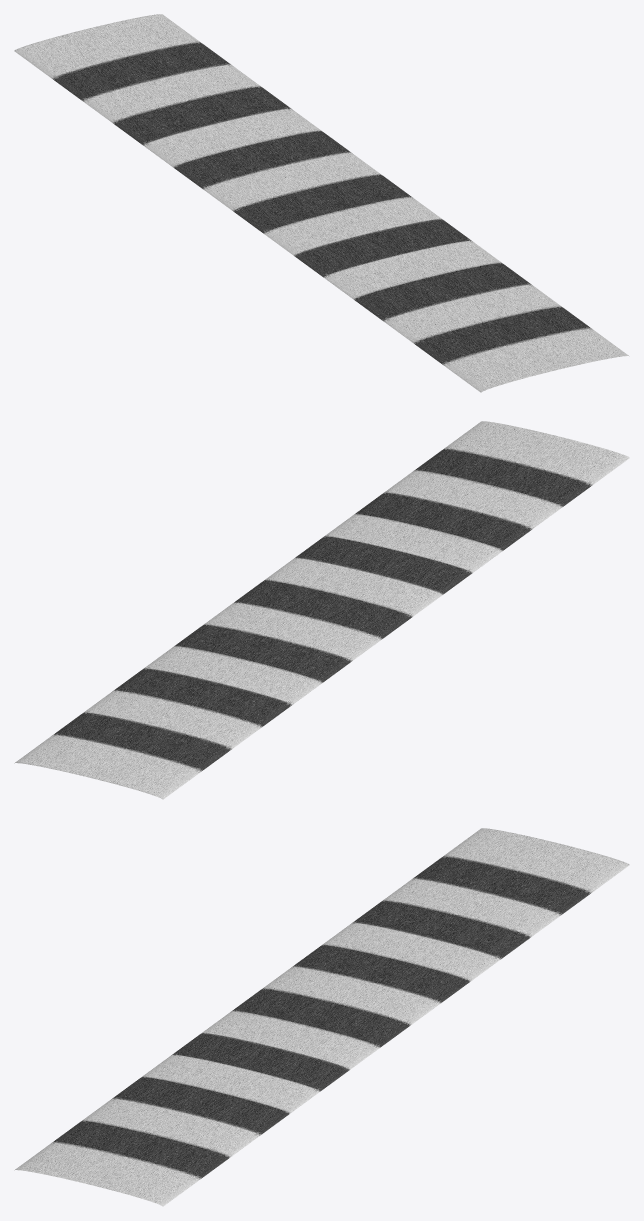
Rendered from speed_bump.dae.
3 views of the same model, one above another, from view 1: azimuth 30°, elevation 25°; view 2: azimuth 150°, elevation 25°; view 3: azimuth 330°, elevation 25° (orthographic).
Visible parts, largest first — view 1: Cylinder; view 2: Cylinder; view 3: Cylinder.
Boxes of the visible parts, x1,y1,x2,y2 form: Cylinder: [14, 14, 629, 392]; Cylinder: [14, 421, 629, 799]; Cylinder: [14, 828, 629, 1206].
Bounding box in the file's own units: 0.3682 × 2 × 0.01.
Materials: 1 (1 with a texture image).
